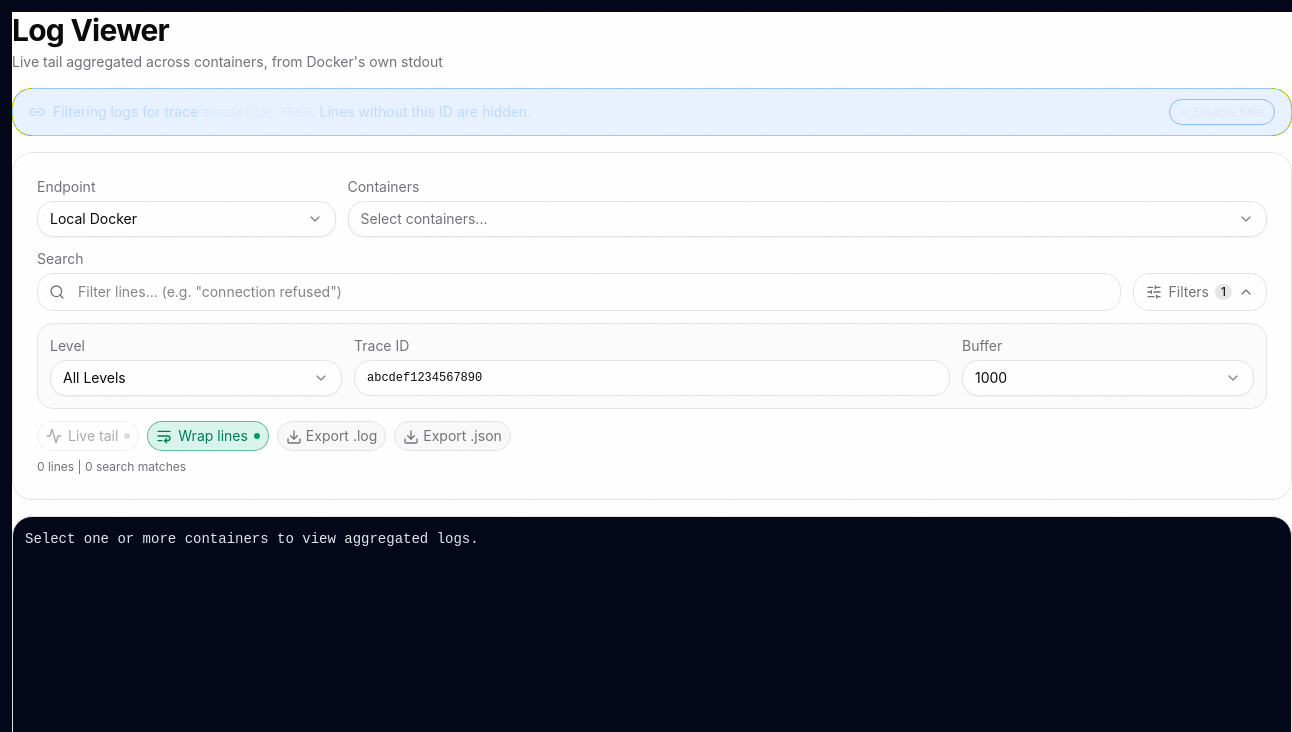
LogViewerPage › clears the trace filter and URL params when "Disable filter" is clicked
Click the button "Disable filter" at (1222, 112), box x1=1169 y1=99 x2=1275 y2=125
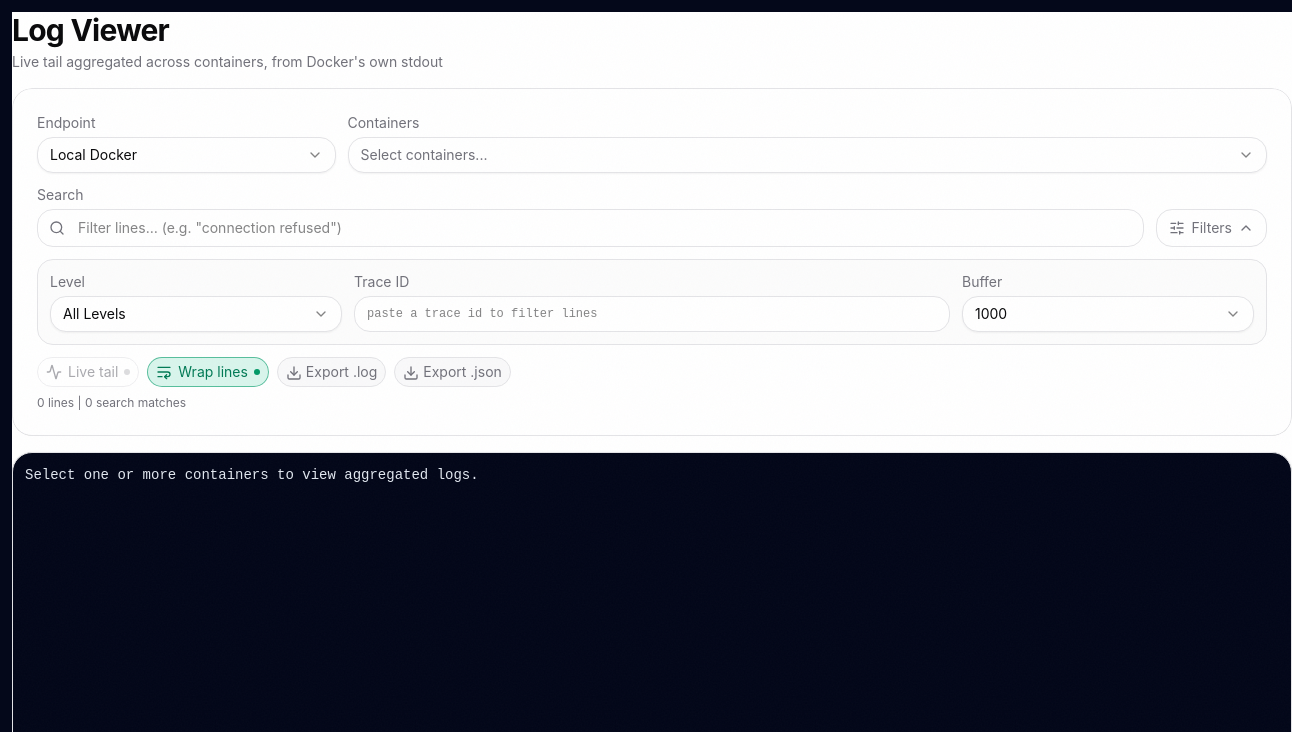
Result: the field named "Trace ID filter" is empty at x1=354 y1=296 x2=950 y2=332
Result: the message with test id "trace-correlation-banner" is gone
